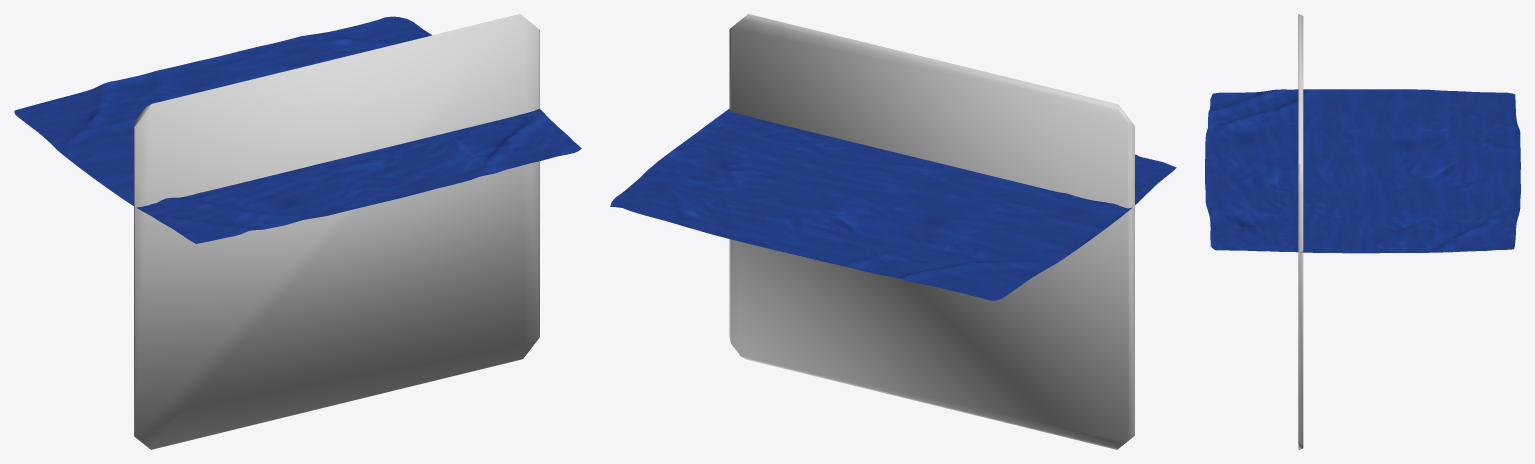
The model's file is SM_Tarp.fbx.
The picture shows the model from 3 angles, left to right: view 1: azimuth 30°, elevation 25°; view 2: azimuth 150°, elevation 25°; view 3: azimuth 270°, elevation 25°; orthographic projection. The views are drawn at different scales.
Parts seen in each view (by area): view 1: SM_Tarp_ConvexHulls, SM_Tarp; view 2: SM_Tarp_ConvexHulls, SM_Tarp; view 3: SM_Tarp, SM_Tarp_ConvexHulls.
Part boxes in pixels (<box>): SM_Tarp_ConvexHulls: <box>134,14,539,449</box>; SM_Tarp: <box>14,16,581,243</box>; SM_Tarp_ConvexHulls: <box>729,14,1134,449</box>; SM_Tarp: <box>610,108,1176,300</box>; SM_Tarp: <box>1205,89,1520,253</box>; SM_Tarp_ConvexHulls: <box>1298,14,1303,449</box>.
Size of the model in its own units: 4.66 by 3.8 by 3.79.
